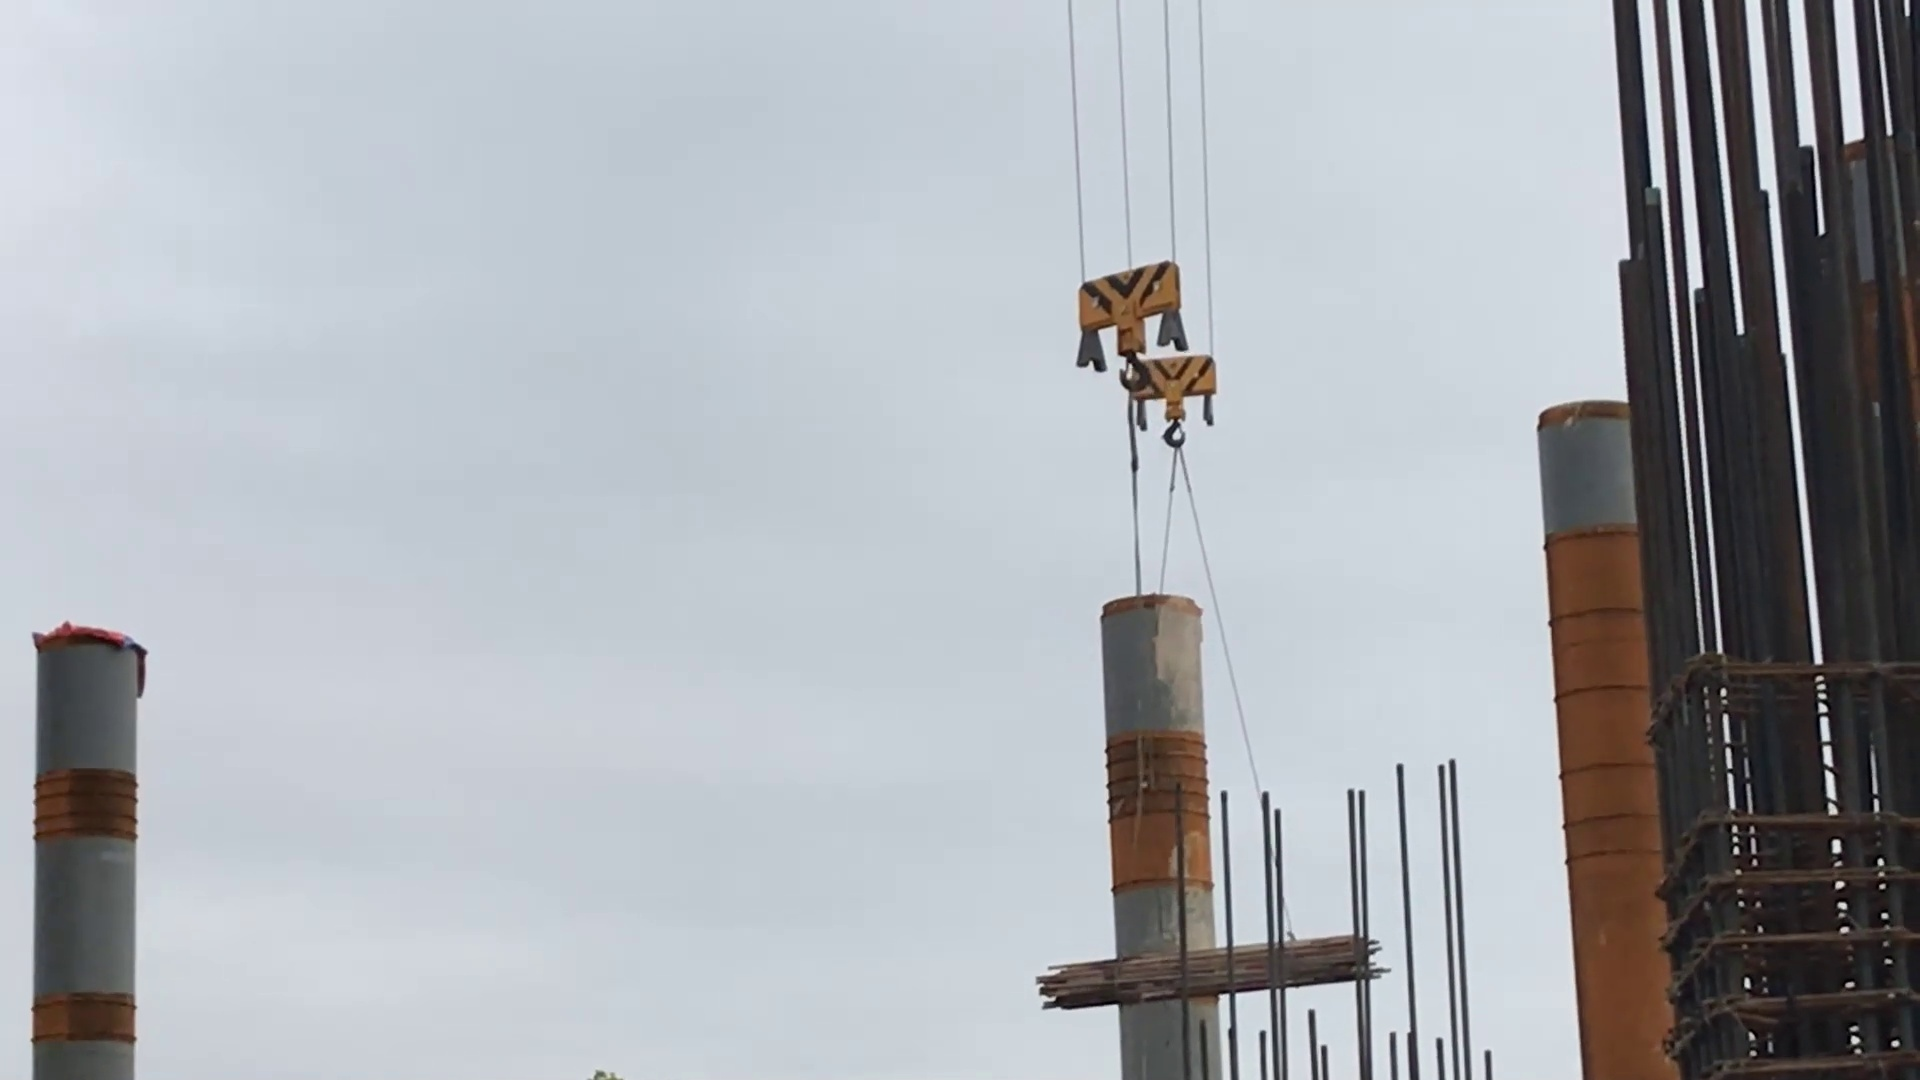hook: (1075, 257, 1191, 394), (1127, 353, 1220, 452)
